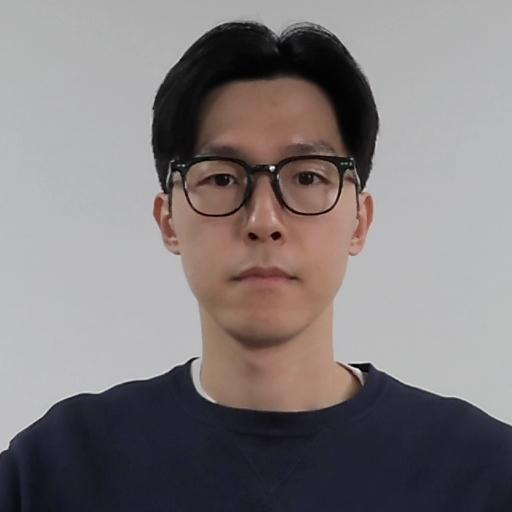no_glasses: (132, 15, 399, 346)
